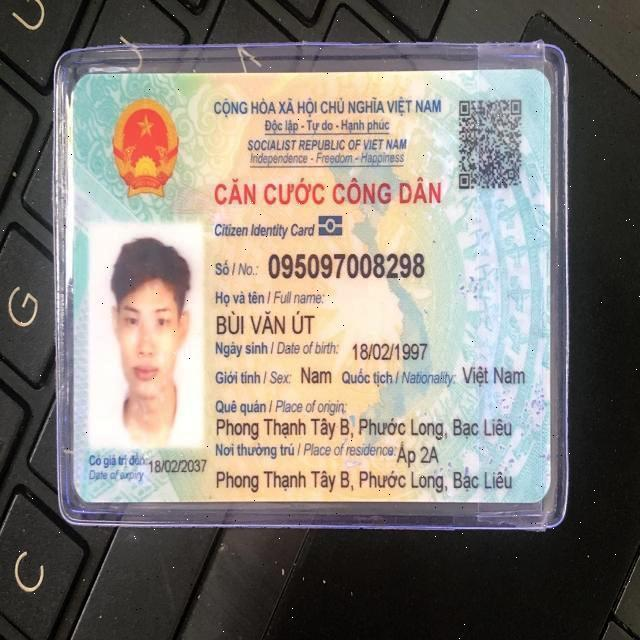current_place: (213, 465, 515, 493), (396, 443, 441, 466)
dob: (349, 334, 433, 361)
expire_date: (149, 453, 208, 480)
gender: (298, 360, 338, 390)
id: (267, 248, 428, 281)
name: (211, 304, 317, 337)
nationality: (459, 354, 527, 390)
origin_place: (214, 415, 514, 443)
